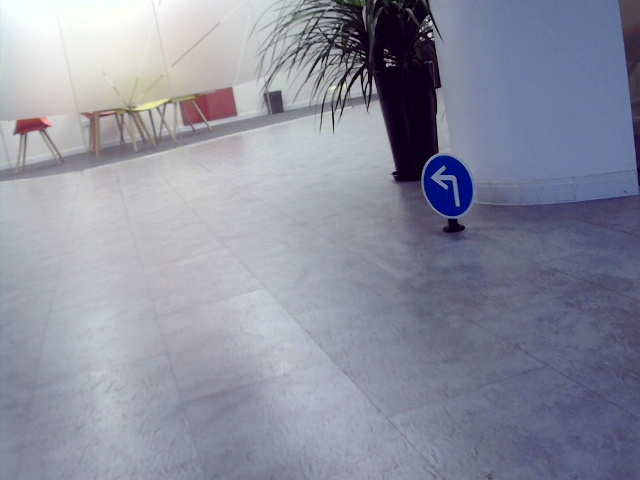turn_left: (427, 164, 463, 208)
